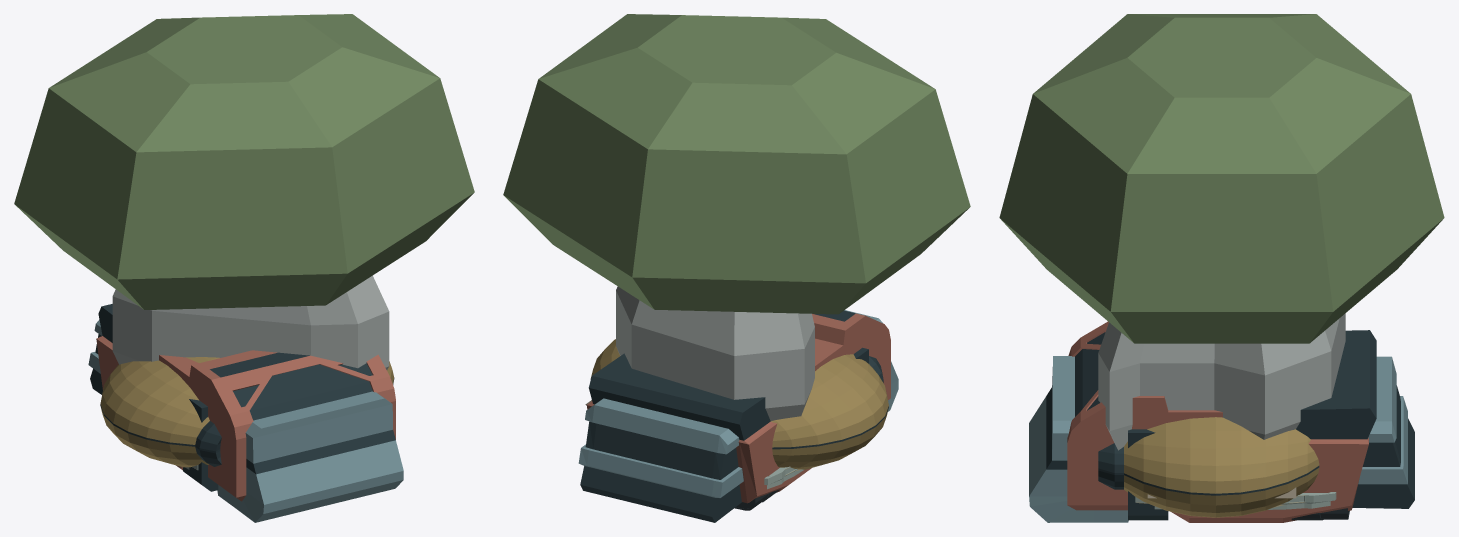
Rendered from arena.glb.
The picture shows the model from 3 angles, left to right: view 1: azimuth 30°, elevation 25°; view 2: azimuth 150°, elevation 25°; view 3: azimuth 270°, elevation 25°; orthographic projection. The views are drawn at different scales.
Parts seen in each view (by area): view 1: tree, scavenger, rock, hunter, forager; view 2: tree, rock, scavenger, hunter, forager, hull; view 3: tree, rock, hunter, forager, scavenger, hull.
Boxes of the visible parts, left/top/right/bottom form: tree: left=14, top=14, right=474, bottom=309; scavenger: left=88, top=319, right=403, bottom=522; rock: left=112, top=275, right=389, bottom=369; hunter: left=96, top=304, right=395, bottom=501; forager: left=100, top=357, right=394, bottom=467; tree: left=503, top=14, right=970, bottom=314; rock: left=616, top=286, right=814, bottom=421; scavenger: left=578, top=310, right=898, bottom=522; hunter: left=586, top=310, right=890, bottom=503; forager: left=590, top=339, right=888, bottom=469; hull: left=734, top=466, right=803, bottom=510; tree: left=999, top=14, right=1444, bottom=343; rock: left=1098, top=313, right=1345, bottom=450; hunter: left=1067, top=321, right=1376, bottom=522; forager: left=1098, top=417, right=1319, bottom=517; scavenger: left=1029, top=356, right=1414, bottom=522; hull: left=1135, top=492, right=1349, bottom=520.
Bounding box in the file's own units: 1.8 × 1.91 × 1.8.
